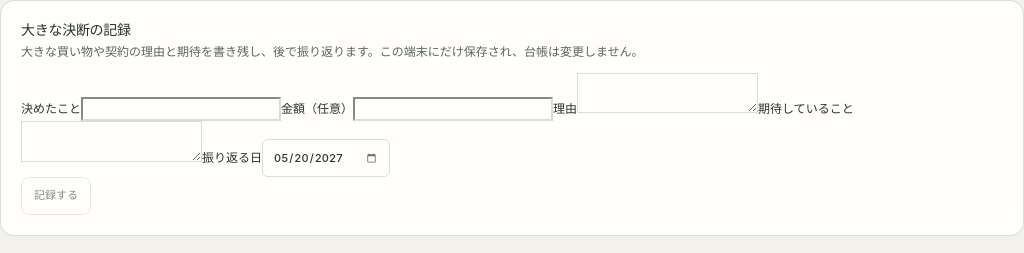
Test case: DecisionJournalPanel › does not allow saving without a title, with a bad amount or a past review date
Expected: the button "記録する" is disabled, x1=21 y1=177 x2=91 y2=215
Type "x" into the field labelled "決めたこと" at x=181, y=109, box x1=81 y1=97 x2=281 y2=121
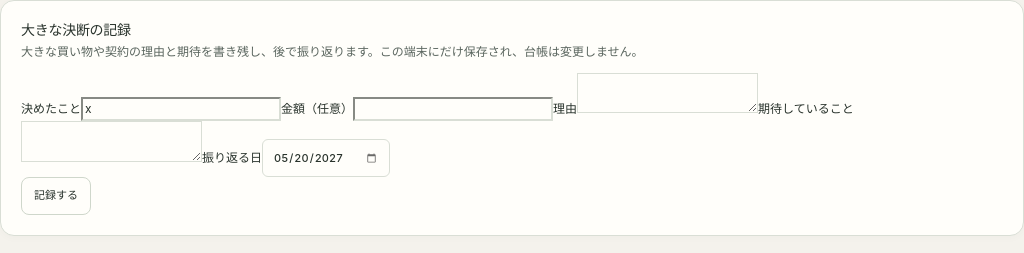
Now the button "記録する" is enabled, box x1=21 y1=177 x2=91 y2=215
Type "abc" into the field labelled "金額（任意）" at x=453, y=109, box x1=353 y1=97 x2=553 y2=121
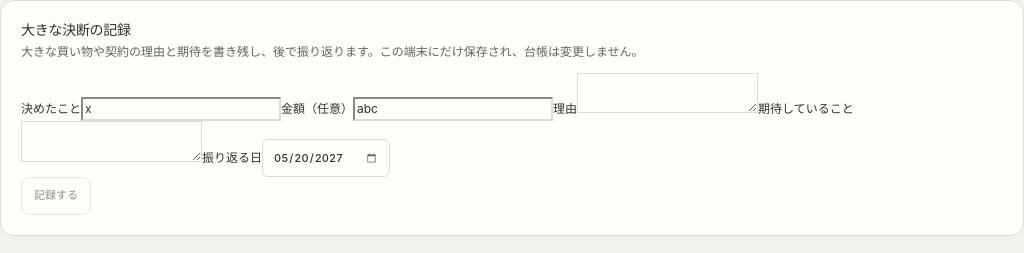
Now the button "記録する" is disabled, box x1=21 y1=177 x2=91 y2=215
Clear the field labelled "金額（任意）" at x=453, y=109, box x1=353 y1=97 x2=553 y2=121
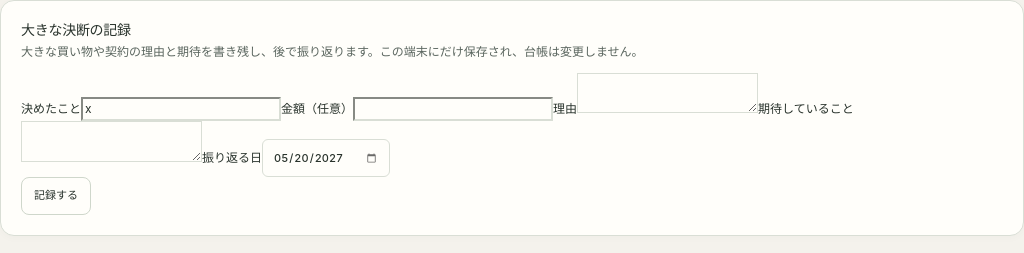
Type "2026-11-19" into the date field labelled "振り返る日" at x=326, y=158, box x1=262 y1=139 x2=390 y2=177
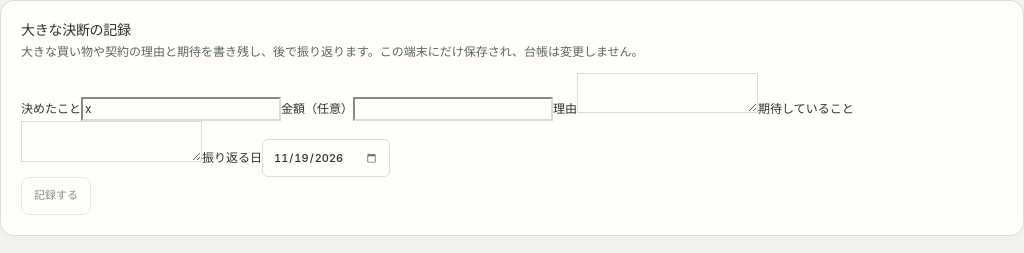
Now the button "記録する" is disabled, box x1=21 y1=177 x2=91 y2=215
